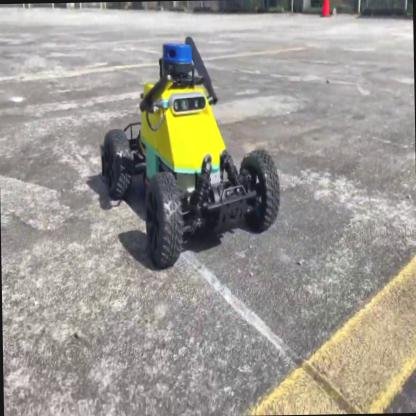cone: (319, 0, 332, 19)
mushr_car: (98, 33, 283, 273)
